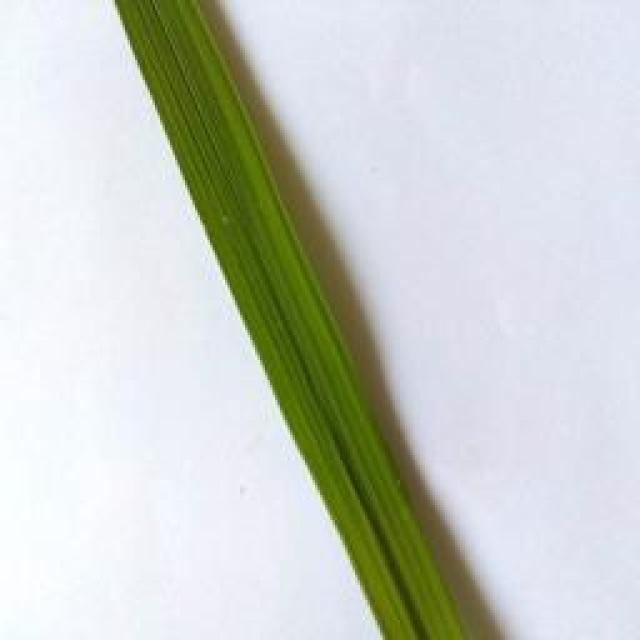Healthy-Plant: (110, 0, 465, 640)
